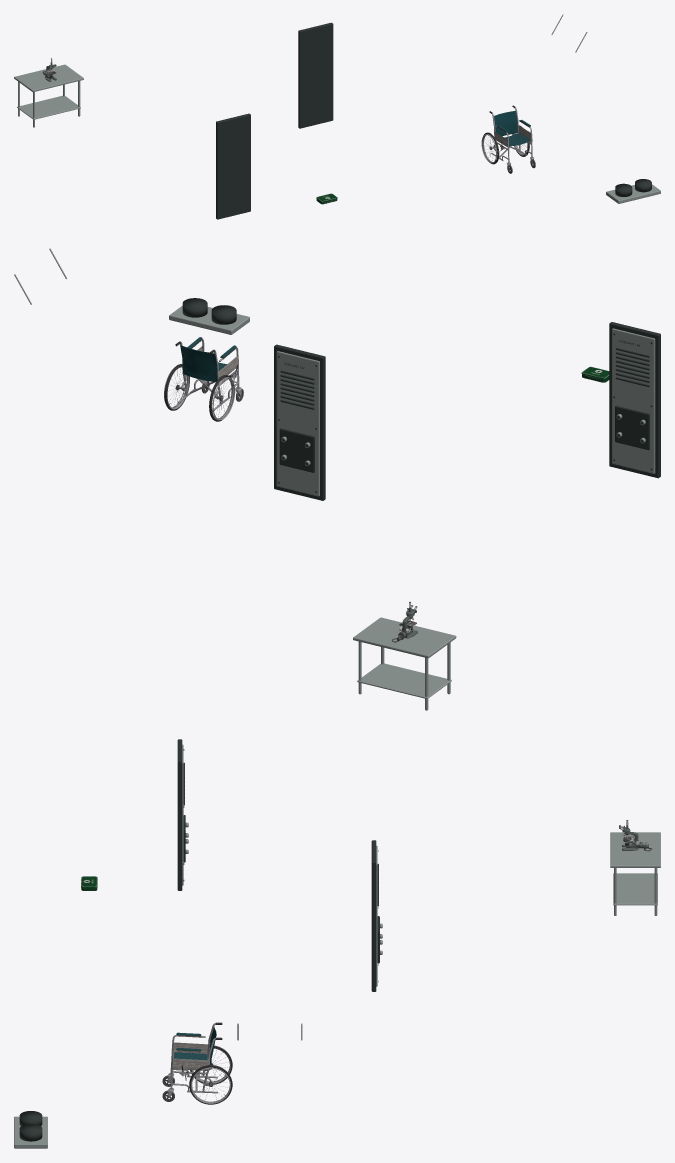
The model's file is containment-props.glb.
3 renders of one model, top to bottom at view 1: azimuth 30°, elevation 25°; view 2: azimuth 150°, elevation 25°; view 3: azimuth 270°, elevation 25°, orthographic. The views are drawn at different scales.
Visible parts, largest first — view 1: CH_Support_Service graphite coating, CH_Support_Prep bench brushed steel, PH_wheelchair_01; view 2: CH_Support_Prep bench brushed steel, CH_Support_Service graphite coating, PH_wheelchair_01; view 3: CH_Support_Prep bench brushed steel, CH_Support_Service graphite coating, PH_wheelchair_01.
Part boxes in pixels (box(x1,y1,x2,y2)): CH_Support_Service graphite coating: box(216, 22, 651, 219); CH_Support_Prep bench brushed steel: box(14, 14, 660, 203); PH_wheelchair_01: box(481, 105, 535, 173); CH_Support_Prep bench brushed steel: box(14, 248, 655, 710); CH_Support_Service graphite coating: box(182, 298, 660, 500); PH_wheelchair_01: box(164, 337, 243, 421); CH_Support_Prep bench brushed steel: box(14, 744, 660, 1148); CH_Support_Service graphite coating: box(19, 739, 382, 1141); PH_wheelchair_01: box(162, 1022, 232, 1104).
Bounding box in the file's own units: 8.86 × 2.44 × 8.94.
Materials: 5 (3 with a texture image).
